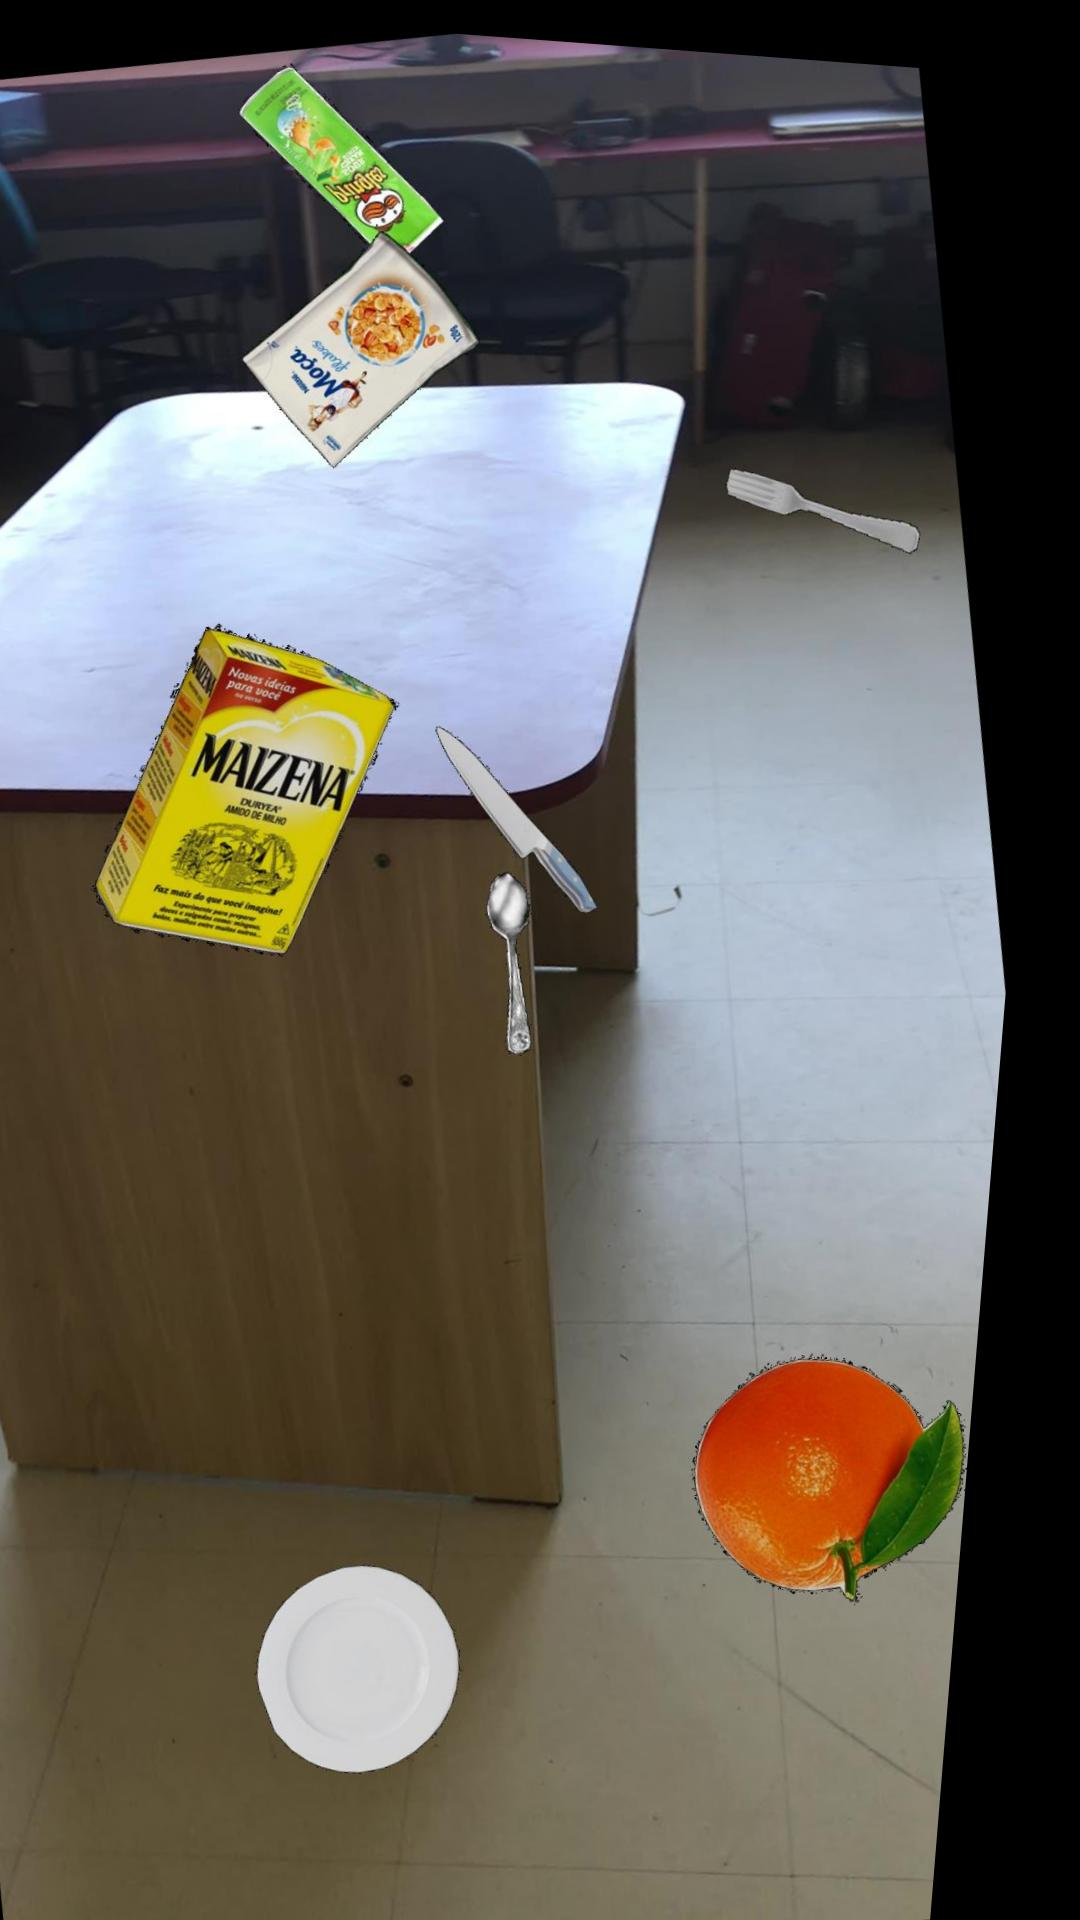corn flakes: (249, 223, 487, 460)
fork: (733, 454, 930, 537)
knife: (450, 717, 613, 902)
orange: (719, 1341, 990, 1585)
plate: (286, 1555, 489, 1764)
pringles: (241, 61, 448, 244)
spoon: (502, 861, 550, 1043)
